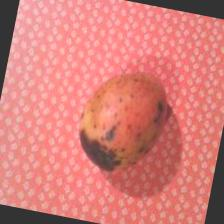Mango Overripe: (71, 56, 176, 180)
